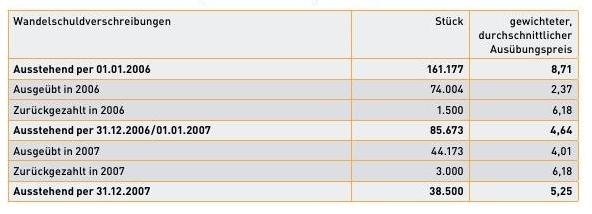table: (0, 0, 592, 214)
